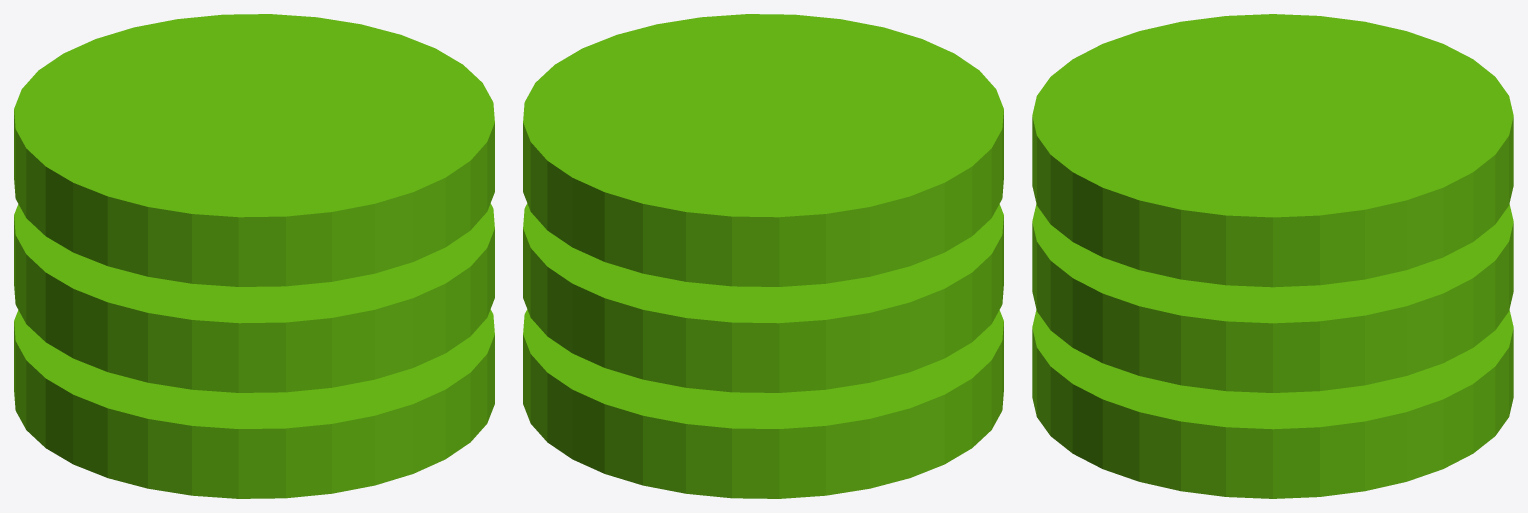
Rendered from repo.glb.
3 renders of one model, left to right at view 1: azimuth 30°, elevation 25°; view 2: azimuth 150°, elevation 25°; view 3: azimuth 270°, elevation 25°, orthographic.
Parts seen in each view (by area): view 1: Cylinder.002, Cylinder, Cylinder.001; view 2: Cylinder.002, Cylinder, Cylinder.001; view 3: Cylinder.002, Cylinder, Cylinder.001.
Part boxes in pixels (x1=…): Cylinder.002: x1=14, y1=14, x2=494, y2=286; Cylinder: x1=14, y1=309, x2=494, y2=498; Cylinder.001: x1=14, y1=203, x2=494, y2=392; Cylinder.002: x1=523, y1=14, x2=1003, y2=286; Cylinder: x1=523, y1=309, x2=1003, y2=498; Cylinder.001: x1=523, y1=203, x2=1003, y2=392; Cylinder.002: x1=1032, y1=14, x2=1513, y2=287; Cylinder: x1=1032, y1=310, x2=1513, y2=498; Cylinder.001: x1=1032, y1=204, x2=1513, y2=392.
Bounding box in the file's own units: 3.09 × 1.99 × 3.09.
